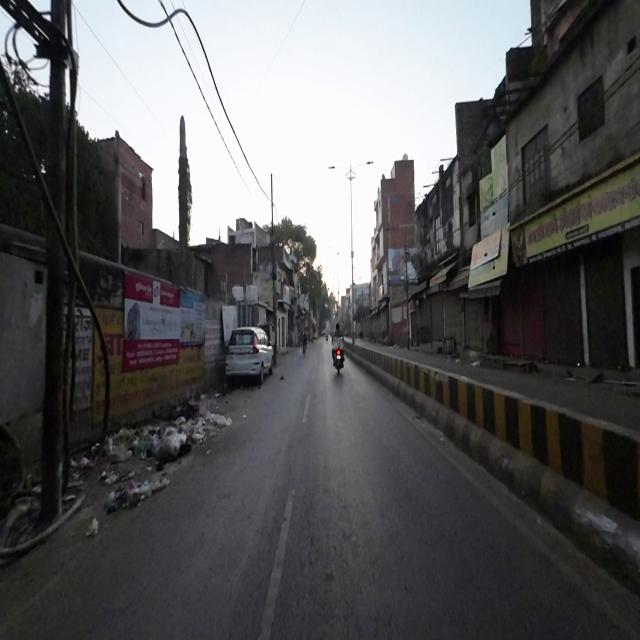Garbage: (106, 422, 190, 466), (108, 477, 170, 509), (190, 406, 231, 442), (86, 518, 102, 540)
